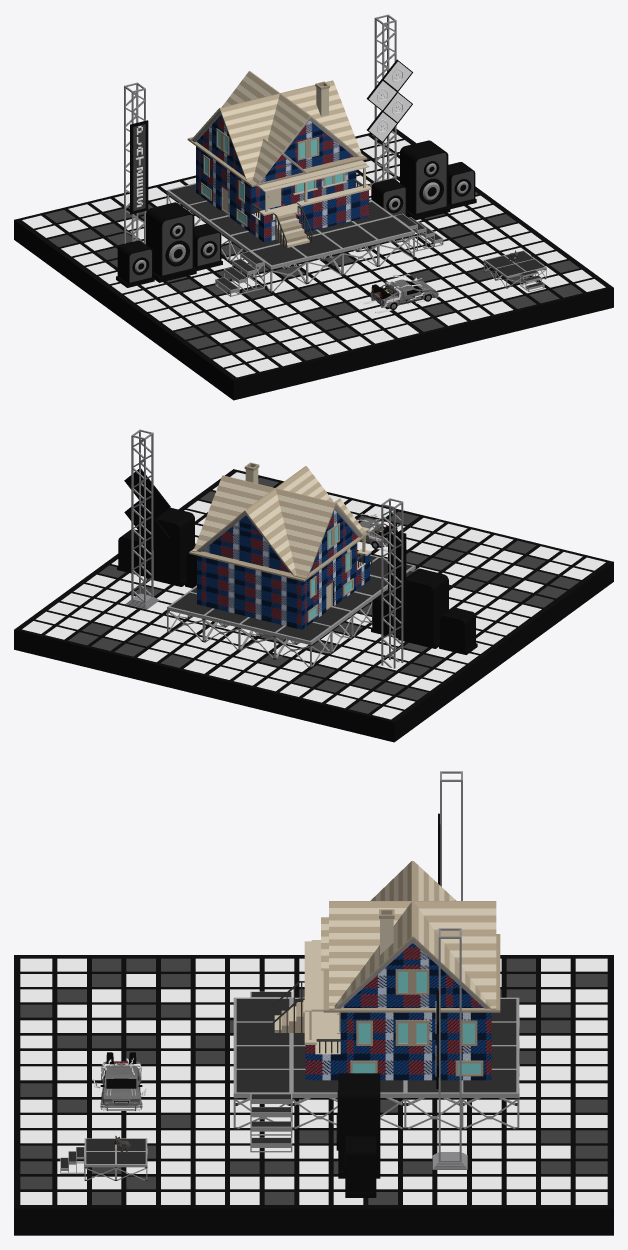
3 renders of one model, top to bottom at view 1: azimuth 30°, elevation 25°; view 2: azimuth 150°, elevation 25°; view 3: azimuth 270°, elevation 25°, orthographic. The views are drawn at different scales.
Visible parts, largest first — view 1: Cube.008, Cube.171, VEHICLES_DELOREAN; view 2: Cube.008, Cube.171, VEHICLES_DELOREAN; view 3: Cube.008, Cube.171, VEHICLES_DELOREAN.
Boxes of the visible parts, bbox=[...] form: Cube.008: bbox=[14, 14, 613, 400]; Cube.171: bbox=[187, 71, 371, 248]; VEHICLES_DELOREAN: bbox=[358, 274, 438, 313]; Cube.008: bbox=[14, 429, 613, 742]; Cube.171: bbox=[189, 462, 372, 629]; VEHICLES_DELOREAN: bbox=[357, 513, 408, 551]; Cube.008: bbox=[14, 771, 613, 1235]; Cube.171: bbox=[272, 861, 500, 1080]; VEHICLES_DELOREAN: bbox=[92, 1052, 146, 1110].
Size of the model in its own units: 4000 by 1980 by 4000.
Materials: 35 (2 with a texture image).
